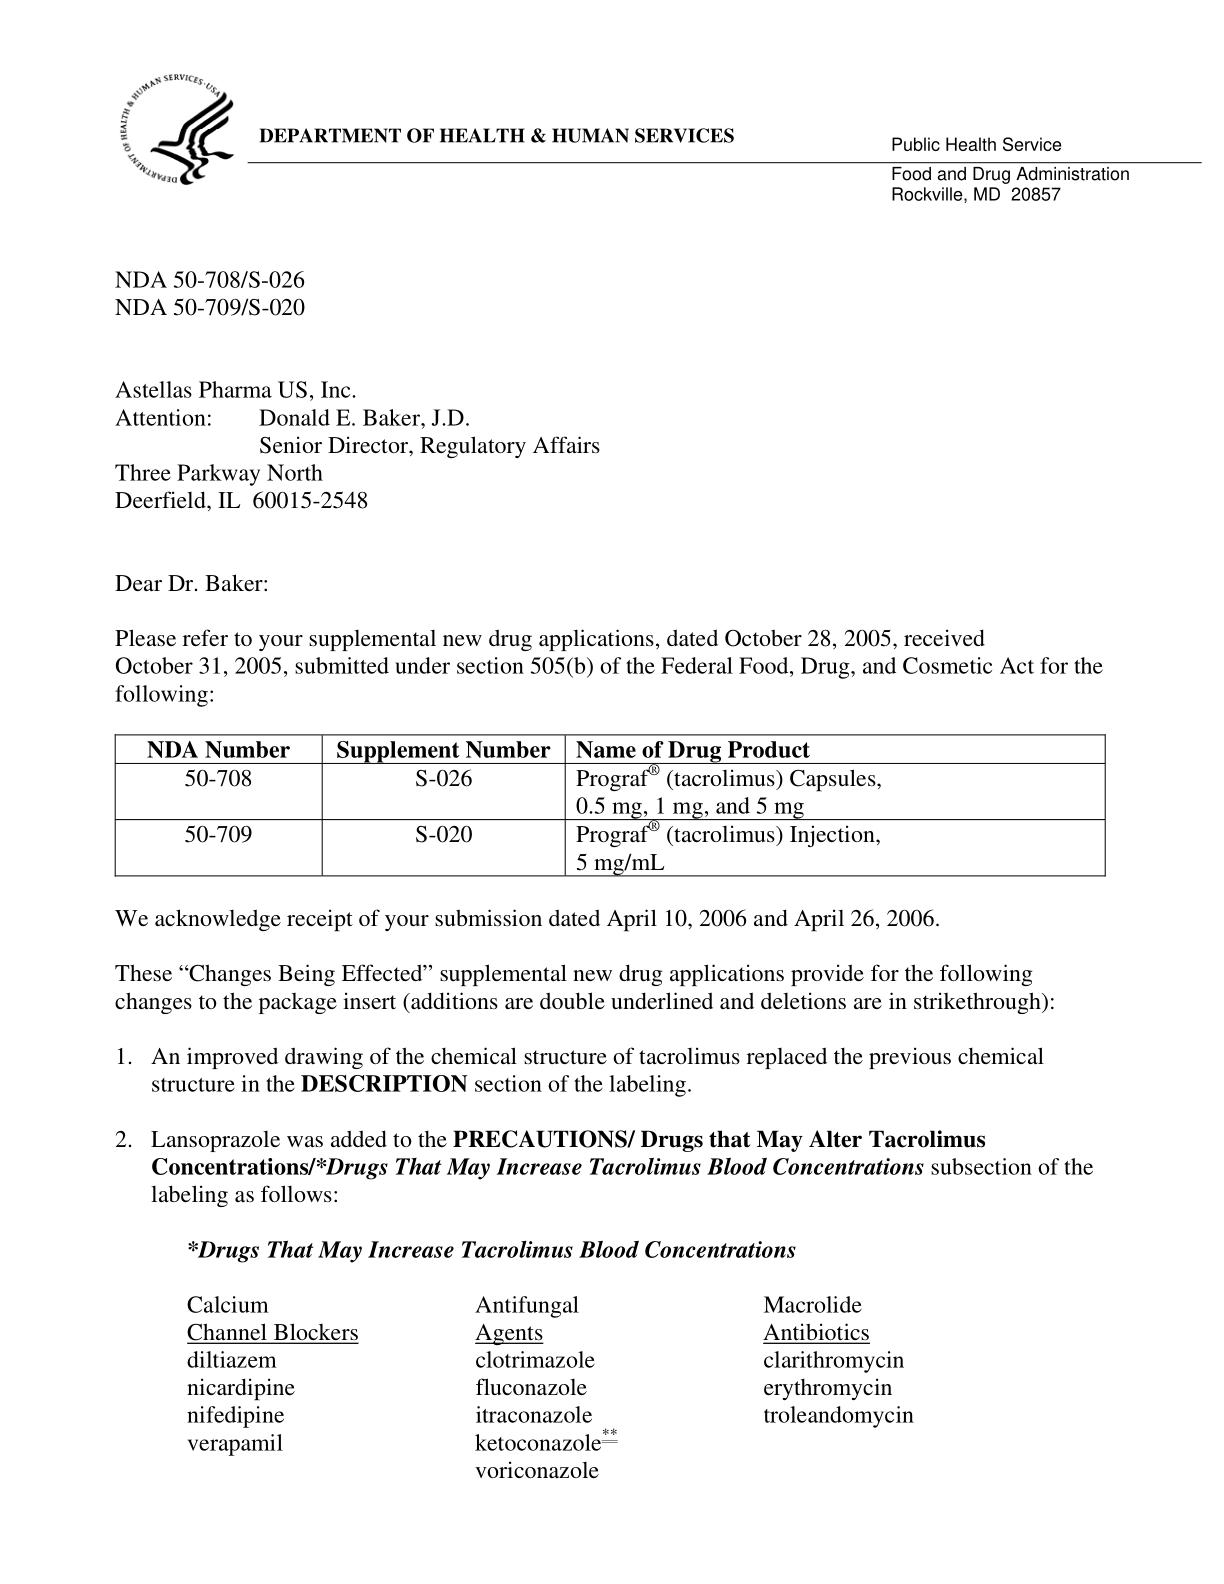full_lined: (114, 734, 1106, 877)
nolines: (183, 1290, 921, 1485)
